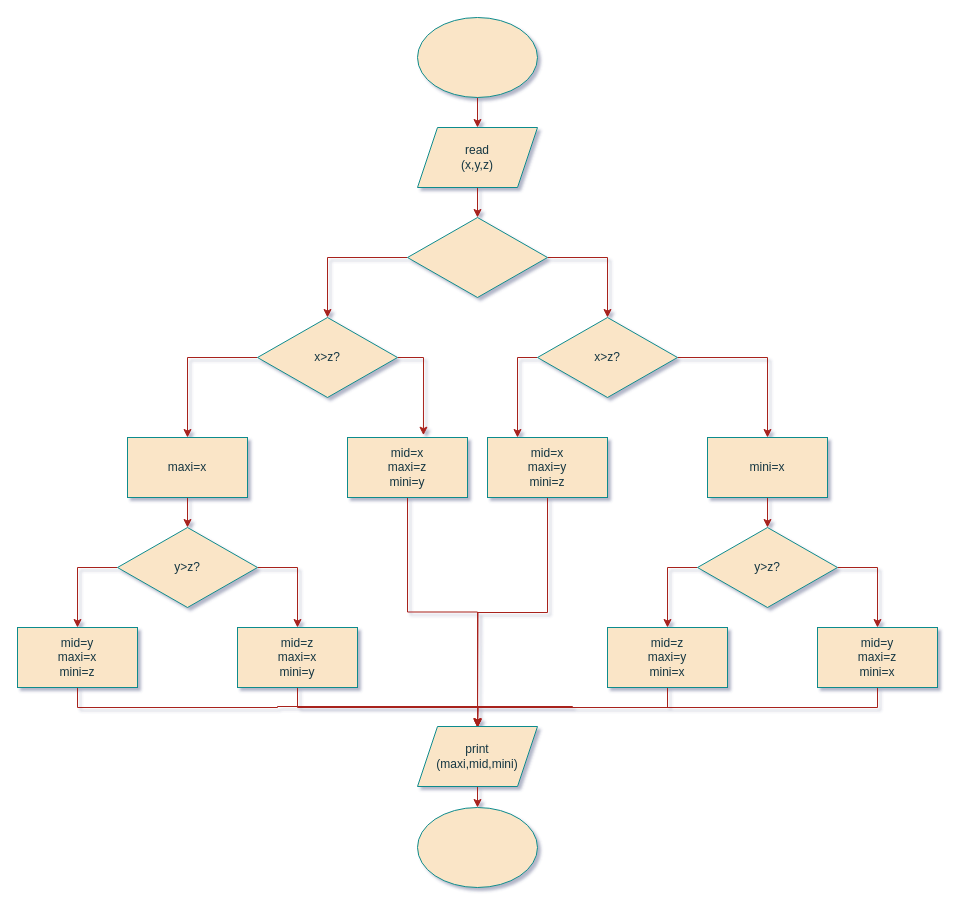
This 961x911 diagram has some shape labels left out. The box of each missing label's shape, as (x1, y1, x2, y2) in pixels:
end: (416, 806, 538, 888)
start: (416, 16, 538, 98)
x>y?: (406, 216, 548, 298)
